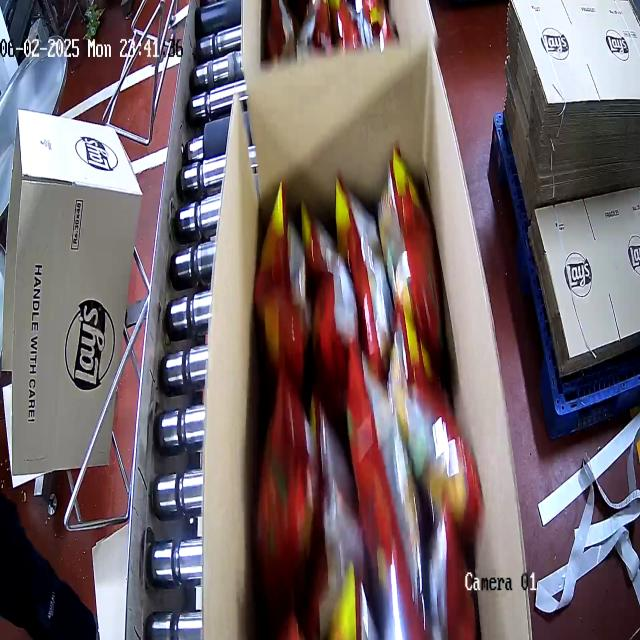MASALA: (250, 188, 472, 640)
